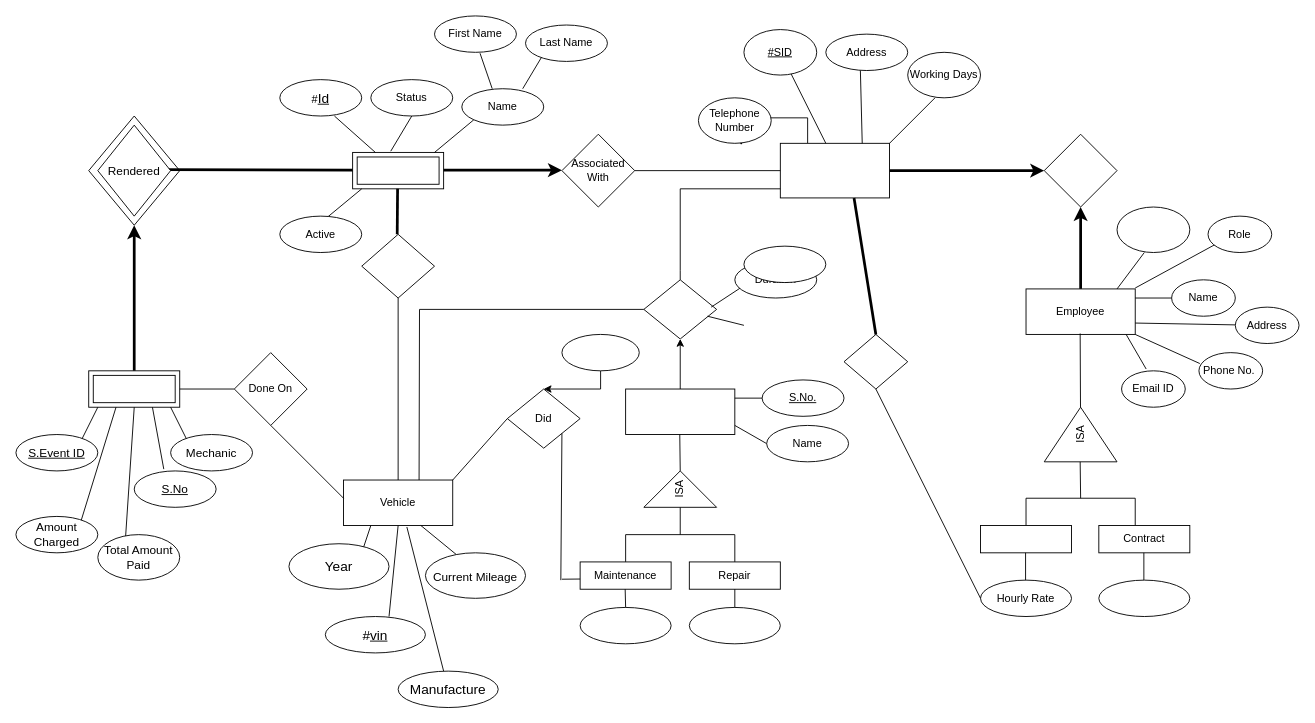
This 1315x723 diagram has some shape labels left out. The shapes that lost their labels are listed below. From the top down, each one's centre as x and y in pixels, then its label:
At (x=398, y=170): "Customer".
At (x=834, y=170): "Service Centre".
At (x=1080, y=170): "Manages".
At (x=1153, y=229): "Emp. ID".
At (x=398, y=265): "Owns".
At (x=784, y=264): "Price".
At (x=680, y=309): "OFFERS".
At (x=600, y=352): "Date".
At (x=875, y=361): "HAS".
At (x=134, y=388): "Service Event".
At (x=680, y=411): "Services".
At (x=1026, y=539): "Hourly".
At (x=1144, y=598): "Annual Salary".
At (x=625, y=625): "Schedule Name".
At (x=734, y=625): "Sub Category".
